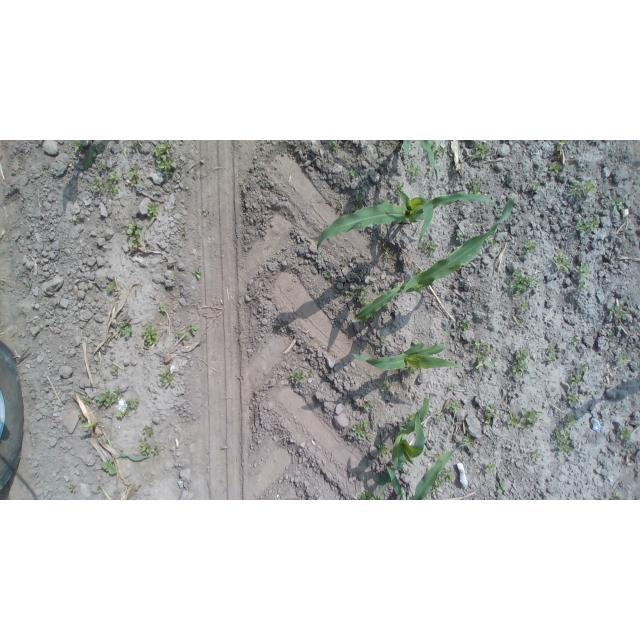Maize: (355, 195, 518, 322), (316, 184, 500, 252), (376, 398, 433, 499), (383, 442, 474, 500), (352, 342, 461, 377), (402, 140, 443, 188)
Weeds: (507, 267, 540, 297), (151, 142, 179, 176), (472, 341, 498, 373), (510, 346, 532, 380), (93, 172, 120, 199), (552, 427, 576, 455), (83, 140, 105, 170), (575, 214, 602, 238), (565, 179, 595, 200), (350, 419, 375, 443), (126, 219, 146, 249), (520, 406, 544, 430), (346, 287, 371, 310), (116, 398, 141, 420), (468, 176, 488, 199), (158, 367, 178, 390), (484, 403, 503, 427), (94, 389, 118, 408), (141, 324, 159, 349), (99, 455, 119, 477), (417, 238, 438, 258), (473, 141, 494, 161), (289, 365, 310, 385), (554, 251, 571, 275), (405, 160, 424, 181), (607, 304, 628, 323), (355, 487, 385, 500), (381, 374, 400, 394), (439, 466, 457, 486), (458, 433, 478, 450), (574, 260, 593, 277), (543, 344, 557, 367), (611, 352, 632, 367), (118, 320, 134, 339), (139, 443, 159, 458), (444, 398, 461, 415), (173, 331, 192, 346), (139, 425, 158, 440), (457, 316, 474, 332), (615, 425, 631, 442), (603, 331, 618, 349), (575, 362, 593, 377), (145, 201, 160, 219), (351, 193, 365, 212), (507, 410, 520, 430), (403, 408, 419, 424), (574, 277, 590, 293), (485, 234, 500, 251), (128, 167, 141, 186), (552, 141, 568, 156), (430, 478, 442, 498), (529, 180, 543, 197), (375, 442, 389, 459), (527, 449, 544, 463), (104, 279, 118, 296), (563, 414, 577, 431), (568, 373, 583, 388), (547, 161, 561, 177), (169, 266, 183, 282), (392, 183, 405, 200), (324, 269, 337, 286), (568, 335, 581, 351), (447, 382, 462, 395), (188, 325, 203, 338), (566, 391, 579, 406), (525, 241, 538, 256), (613, 196, 626, 210), (519, 300, 532, 314), (435, 411, 450, 423), (431, 451, 443, 466), (496, 481, 508, 496), (110, 362, 122, 377), (70, 140, 83, 153), (192, 267, 205, 280), (483, 462, 497, 474), (455, 230, 466, 245), (363, 401, 374, 416), (67, 481, 78, 496), (377, 334, 389, 347), (340, 257, 351, 271), (514, 316, 528, 327), (82, 394, 94, 406), (331, 141, 342, 154), (158, 303, 170, 314), (127, 140, 140, 150), (348, 168, 358, 181), (380, 197, 392, 207), (383, 243, 392, 256), (202, 205, 211, 217), (97, 163, 108, 172), (322, 368, 330, 378), (182, 227, 188, 237), (307, 368, 313, 378)
